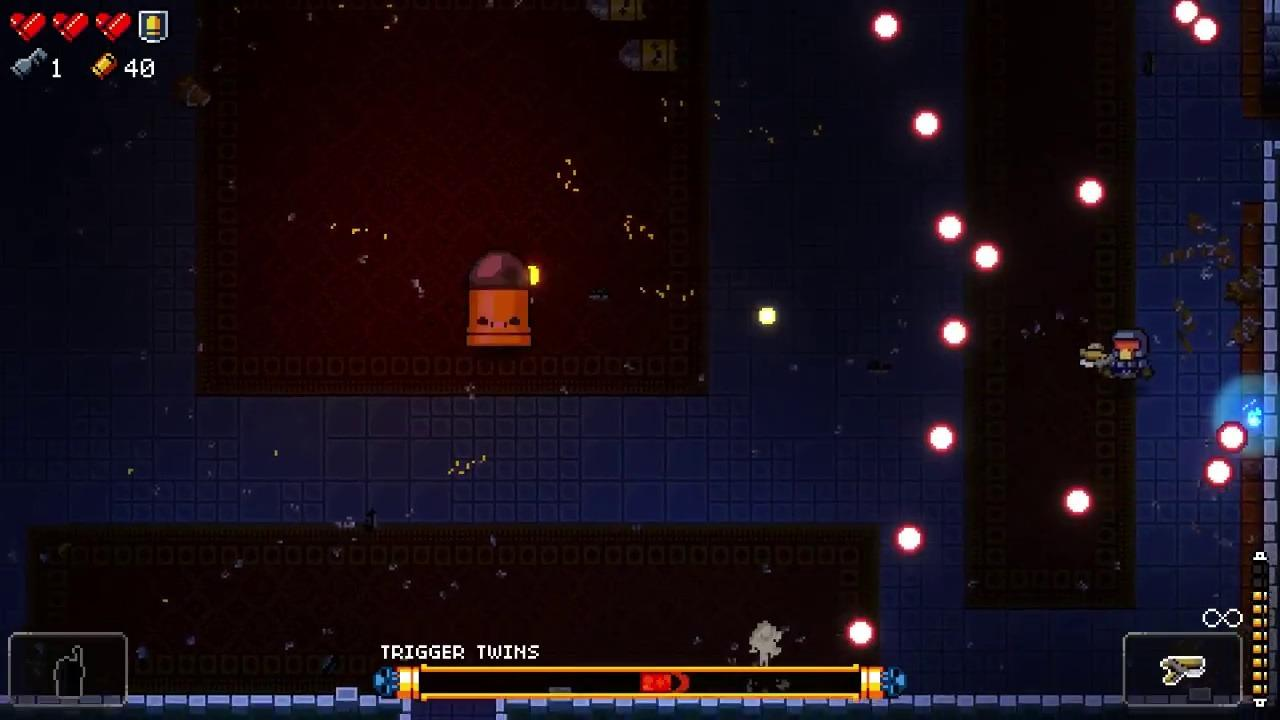boss_smiley: (468, 252, 532, 347)
bullet: (1215, 422, 1252, 453), (1067, 484, 1096, 519), (911, 107, 942, 139), (871, 12, 901, 42), (1077, 177, 1106, 208), (1191, 16, 1220, 47), (845, 618, 876, 646), (1205, 457, 1232, 488), (896, 524, 923, 553), (973, 243, 1000, 271), (937, 214, 964, 242), (941, 318, 967, 346), (1172, 0, 1200, 26), (930, 424, 955, 452)
dead_bullet_kin: (620, 38, 679, 75), (585, 0, 649, 22)
player: (1110, 328, 1151, 381)
